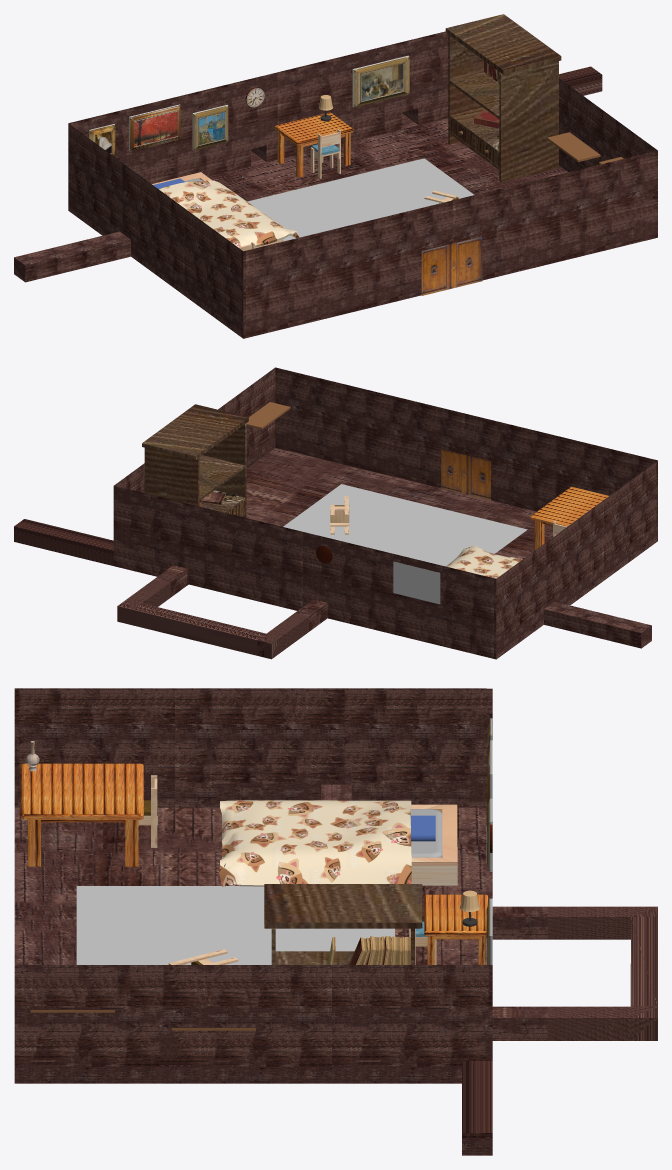
The model's file is stage.fbx.
3 views of the same model, one above another, from view 1: azimuth 30°, elevation 25°; view 2: azimuth 150°, elevation 25°; view 3: azimuth 270°, elevation 25° (orthographic). The views are drawn at different scales.
Visible parts, largest first — view 1: pCube1, pasted__pCylinder3, pasted__pasted__pPlane4, pasted__polySurface2, pasted__pPlane4, pCube3, pCube10, pasted__pCube4, pasted__pCube2, pasted__pCube21, pCube2, pCube5; view 2: pCube1, pasted__pasted__pPlane4, pasted__pCylinder3, pasted__pPlane4, pCube21, pasted__pCube4, pasted__polySurface2, pCube4, pasted__pCube23; view 3: pCube1, pasted__pasted__pPlane4, pasted__polySurface2, pasted__pCylinder3, pCube21, pCube10, pasted__polySurface5, pasted__polySurface3, pasted__pCube22, pasted__polySurface4.
Part boxes in pixels (bbox=[...]): pCube1: bbox=[14, 31, 657, 338]; pasted__pCylinder3: bbox=[445, 14, 561, 181]; pasted__pasted__pPlane4: bbox=[247, 158, 473, 241]; pasted__polySurface2: bbox=[159, 180, 299, 247]; pasted__pPlane4: bbox=[421, 236, 482, 295]; pCube3: bbox=[352, 55, 409, 107]; pCube10: bbox=[274, 112, 353, 177]; pasted__pCube4: bbox=[129, 104, 180, 151]; pasted__pCube2: bbox=[192, 105, 228, 150]; pasted__pCube21: bbox=[310, 129, 340, 178]; pCube2: bbox=[547, 132, 600, 161]; pCube5: bbox=[89, 124, 115, 156]; pCube1: bbox=[14, 367, 657, 659]; pasted__pasted__pPlane4: bbox=[283, 484, 527, 566]; pasted__pCylinder3: bbox=[142, 404, 248, 517]; pasted__pPlane4: bbox=[441, 449, 490, 500]; pCube21: bbox=[530, 486, 608, 550]; pasted__pCube4: bbox=[393, 561, 440, 604]; pasted__polySurface2: bbox=[446, 545, 522, 578]; pCube4: bbox=[246, 402, 290, 429]; pasted__pCube23: bbox=[330, 496, 349, 534]; pCube1: bbox=[14, 688, 657, 1155]; pasted__pasted__pPlane4: bbox=[76, 886, 394, 964]; pasted__polySurface2: bbox=[219, 800, 411, 886]; pasted__pCylinder3: bbox=[264, 884, 422, 964]; pCube21: bbox=[21, 763, 143, 866]; pCube10: bbox=[424, 894, 487, 964]; pasted__polySurface5: bbox=[411, 804, 457, 885]; pasted__polySurface3: bbox=[411, 809, 442, 857]; pasted__pCube22: bbox=[138, 775, 157, 847]; pasted__polySurface4: bbox=[411, 815, 435, 841].
Bounding box in the file's own units: 1781 × 314 × 1159.
